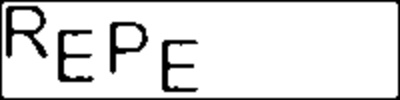E: (158, 36, 202, 95), (54, 27, 98, 85)
P: (106, 20, 151, 76)
R: (3, 3, 50, 61)
